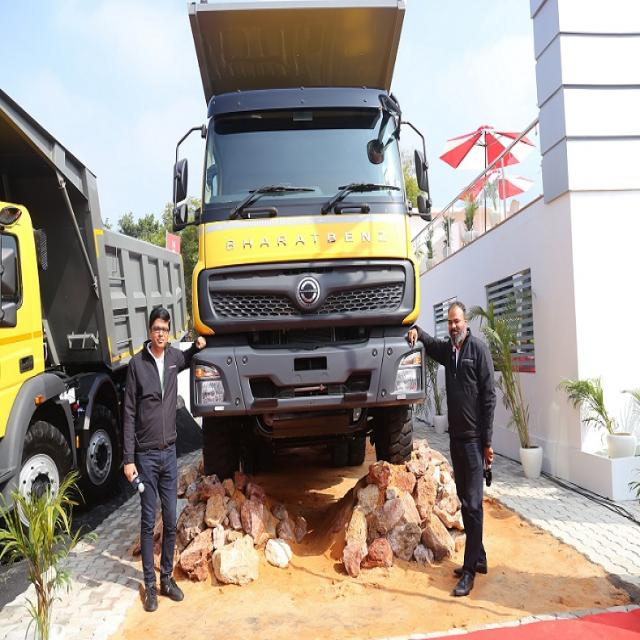dump_truck: (164, 3, 441, 470), (2, 15, 187, 578)
